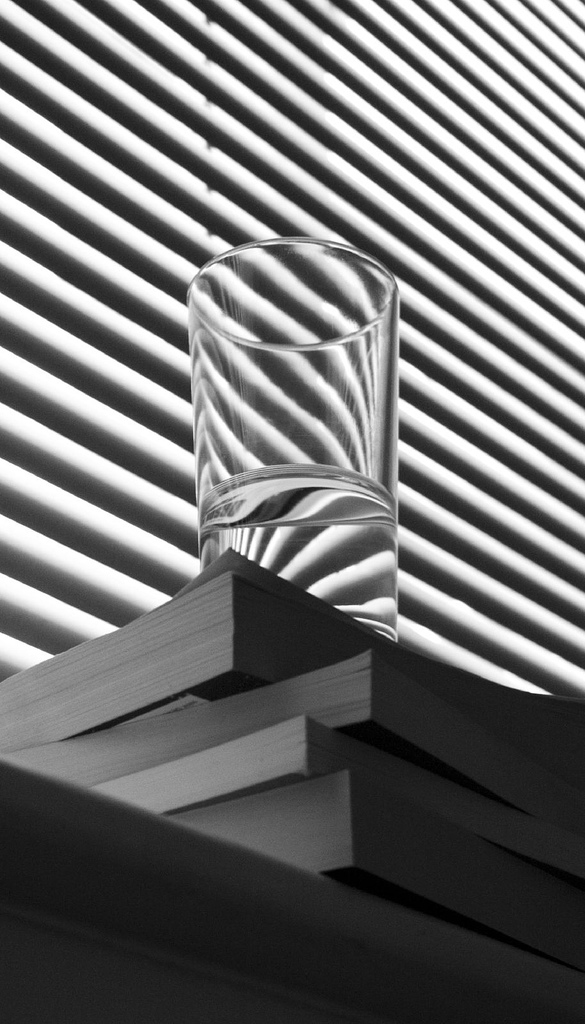glass of water: (187, 241, 417, 670)
